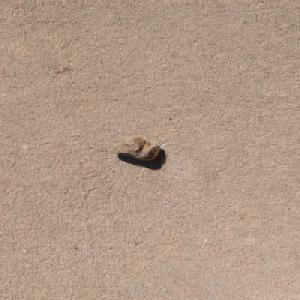Rock: (110, 135, 161, 161)
